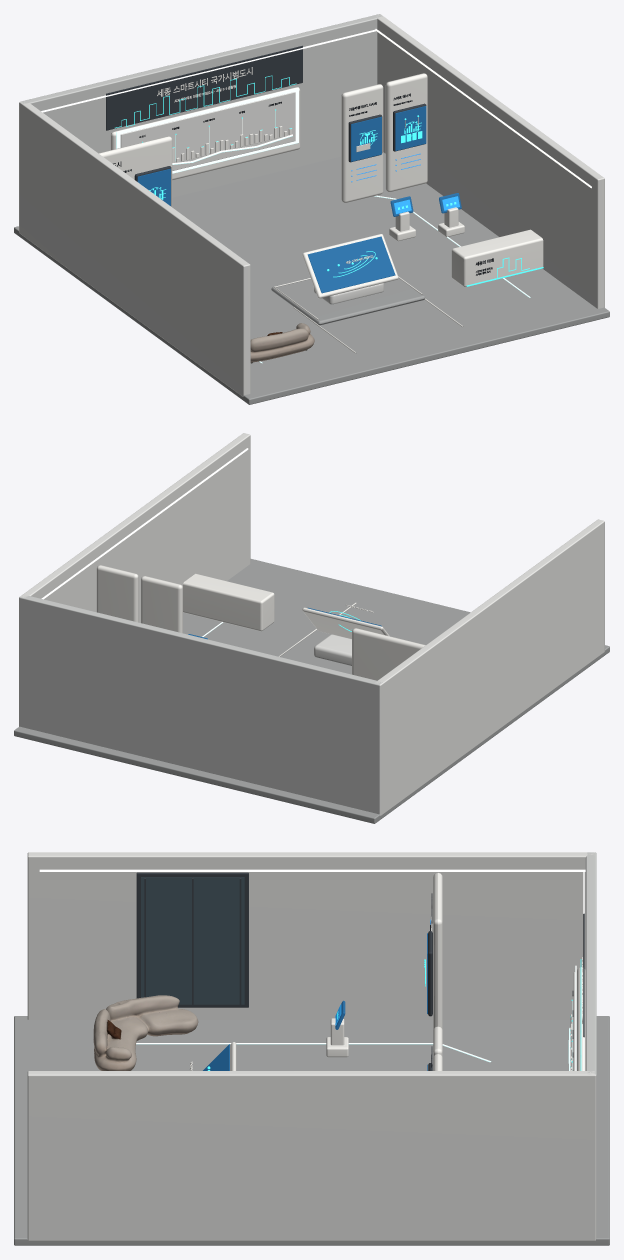
The model's file is sejong-smartcity-exhibition.glb.
3 renders of one model, top to bottom at view 1: azimuth 30°, elevation 25°; view 2: azimuth 150°, elevation 25°; view 3: azimuth 270°, elevation 25°, orthographic. The views are drawn at different scales.
Visible parts, largest first — view 1: Exhibition_Floor, Left_Wall, Right_Wall, Back_Wall, Main_Title_Backdrop, Future_Map_Surface, Future_Counter, Energy_Wall, Mobility_Wall, Central_Table_Screen, Central_Table_Platform, AI_Exhibit_Wall (+11 smaller); view 2: Back_Wall, Left_Wall, Right_Wall, Exhibition_Floor, Future_Counter, AI_Exhibit_Wall, Energy_Wall, Mobility_Wall, Central_Table_Frame, Central_Table_Platform, Central_Table_Base, Right_Cove_Light; view 3: Right_Wall, Left_Wall, Exhibition_Floor, Left_Window_Frame, Left_Window_Glass, tripo_node_d2b5f472-a753-44d7-9b9f-42e02b7542d3, Back_Wall, Left_Cove_Light, AI_Exhibit_Wall, Future_Map_Frame, Side_Floor_Guide_-11.5.
Boxes of the visible parts, <box> form: Exhibition_Floor: <box>14,152,609,404</box>; Left_Wall: <box>19,101,250,396</box>; Right_Wall: <box>375,14,604,308</box>; Back_Wall: <box>20,14,382,197</box>; Main_Title_Backdrop: <box>106,45,302,130</box>; Future_Map_Surface: <box>120,92,295,170</box>; Future_Counter: <box>451,229,543,287</box>; Energy_Wall: <box>385,73,427,192</box>; Mobility_Wall: <box>341,84,383,202</box>; Central_Table_Screen: <box>307,236,395,293</box>; Central_Table_Platform: <box>271,278,425,325</box>; AI_Exhibit_Wall: <box>99,136,172,206</box>; Back_Wall: <box>19,596,382,814</box>; Left_Wall: <box>375,519,604,815</box>; Right_Wall: <box>19,433,250,726</box>; Exhibition_Floor: <box>14,559,609,823</box>; Future_Counter: <box>183,573,274,631</box>; AI_Exhibit_Wall: <box>352,628,425,680</box>; Energy_Wall: <box>96,565,138,622</box>; Mobility_Wall: <box>141,576,182,633</box>; Central_Table_Frame: <box>302,607,389,638</box>; Central_Table_Platform: <box>280,630,351,674</box>; Central_Table_Base: <box>314,634,351,665</box>; Right_Cove_Light: <box>41,448,248,599</box>; Right_Wall: <box>27,1071,596,1241</box>; Left_Wall: <box>27,852,594,1019</box>; Exhibition_Floor: <box>14,1016,609,1245</box>; Left_Window_Frame: <box>136,872,248,1007</box>; Left_Window_Glass: <box>141,877,244,1004</box>; tripo_node_d2b5f472-a753-44d7-9b9f-42e02b7542d3: <box>93,995,198,1070</box>; Back_Wall: <box>585,852,596,1237</box>; Left_Cove_Light: <box>39,869,585,871</box>; AI_Exhibit_Wall: <box>433,872,442,1029</box>; Future_Map_Frame: <box>577,967,585,1070</box>; Side_Floor_Guide_-11.5: <box>136,1043,491,1062</box>.
Bounding box in the file's own units: 31.04 × 11.1 × 35.
14 materials, 1 textured.
